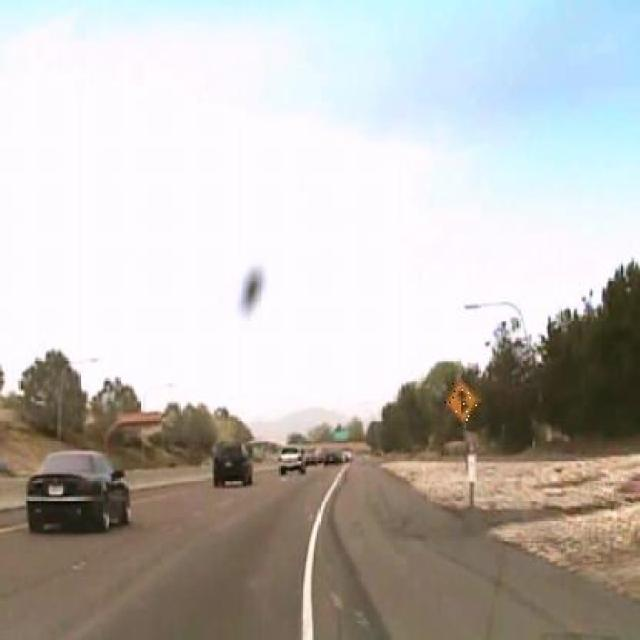merge: (446, 375, 480, 424)
